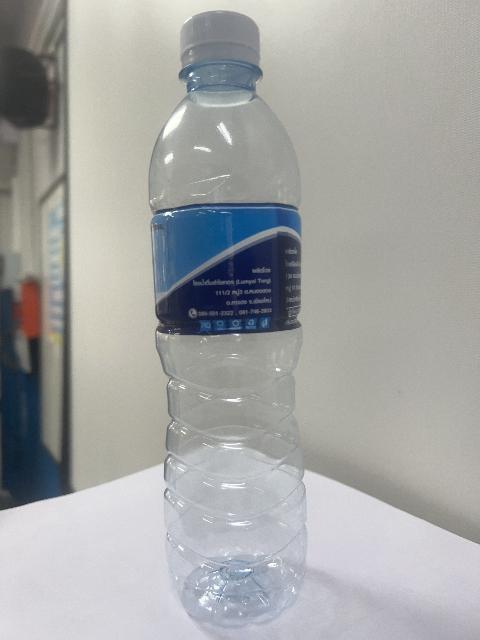bottle: (150, 12, 306, 626)
